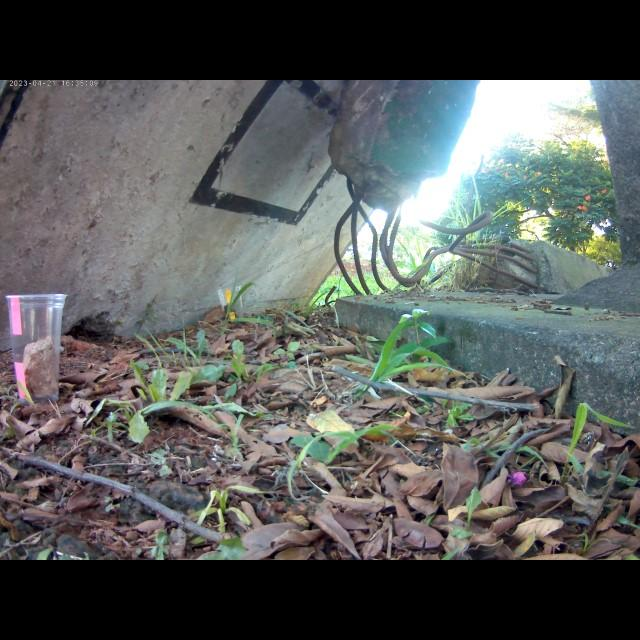detrito: (0, 80, 486, 356), (334, 83, 640, 449), (428, 241, 601, 297)
